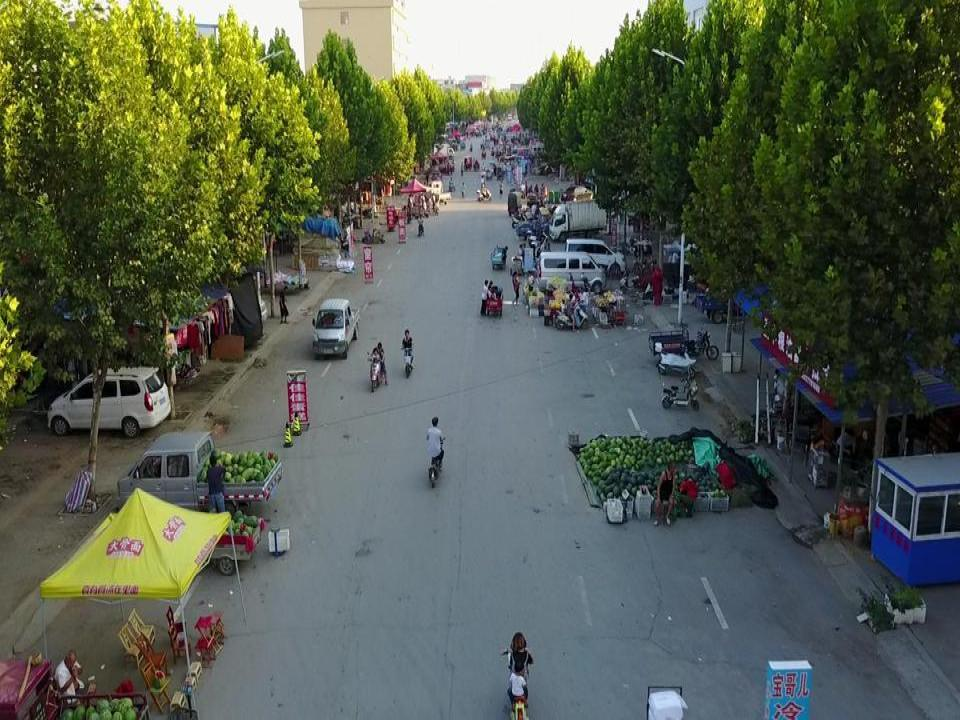car: (558, 181, 594, 203)
truck: (115, 435, 286, 517), (310, 289, 361, 359), (549, 201, 614, 239)
van: (533, 248, 608, 289), (563, 233, 629, 276)
